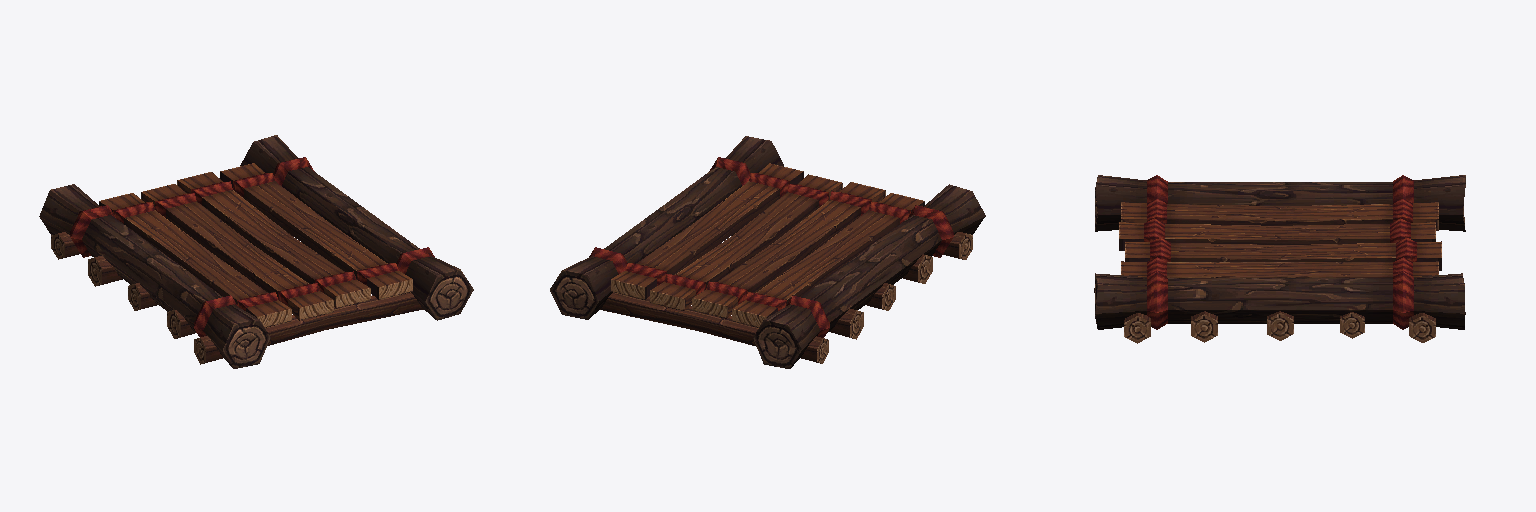
3 renders of one model, left to right at view 1: azimuth 30°, elevation 25°; view 2: azimuth 150°, elevation 25°; view 3: azimuth 270°, elevation 25°, orthographic.
Visible parts, largest first — view 1: Geoset_000; view 2: Geoset_000; view 3: Geoset_000.
Boxes of the visible parts, box(x1,y1,x2,y2) form: Geoset_000: box(39, 135, 473, 368); Geoset_000: box(550, 136, 985, 368); Geoset_000: box(1094, 175, 1465, 343).
Size of the model in its own units: 2.22 by 0.4463 by 2.8.
Materials: 1 (1 with a texture image).